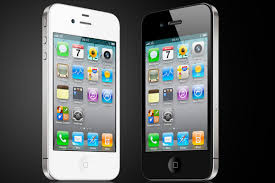iphone: (39, 1, 122, 183), (140, 1, 223, 182)
iphone4: (140, 1, 223, 182), (39, 1, 122, 181)
